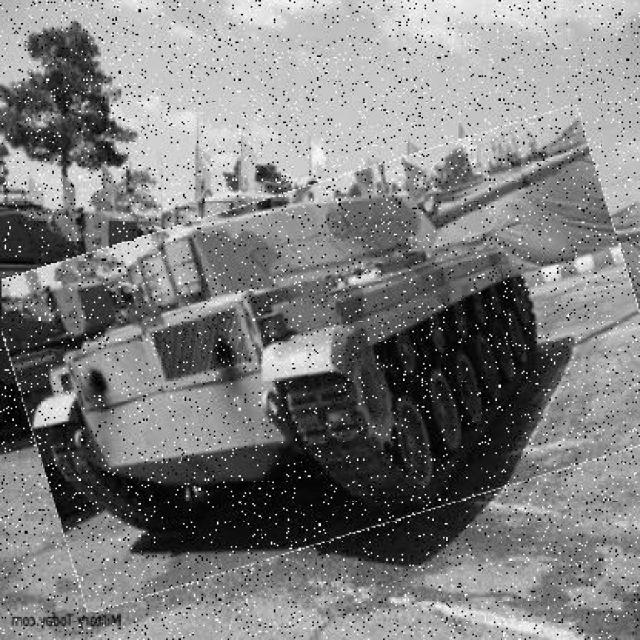Tank: (6, 148, 640, 577)
